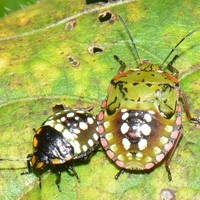insect: (0, 11, 135, 157), (97, 18, 198, 179), (34, 117, 199, 199), (0, 104, 98, 188), (127, 12, 196, 63), (171, 29, 199, 116), (1, 170, 23, 199)
